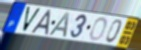0: (105, 19, 123, 44)
3: (68, 14, 88, 40)
A: (47, 12, 71, 39), (29, 9, 52, 37)
O: (89, 17, 108, 42)
V: (21, 6, 42, 34)
